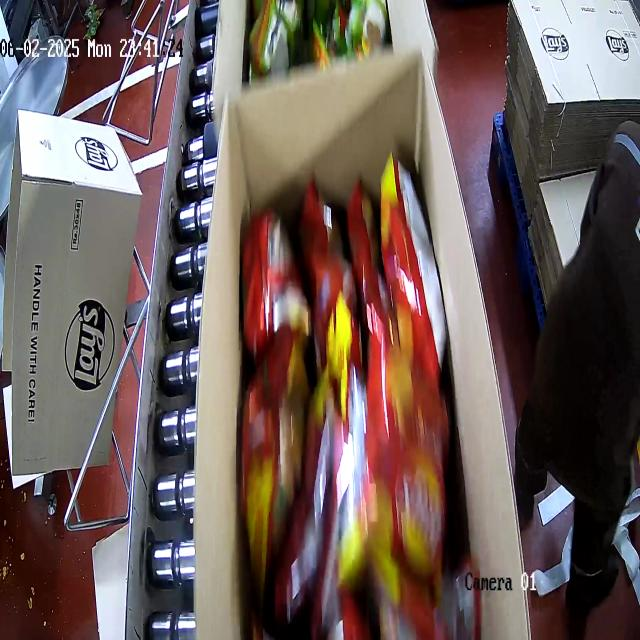MASALA: (242, 171, 468, 634)
